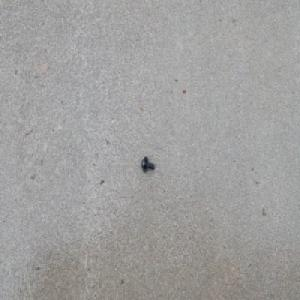BoltWasher: (141, 155, 155, 172)
